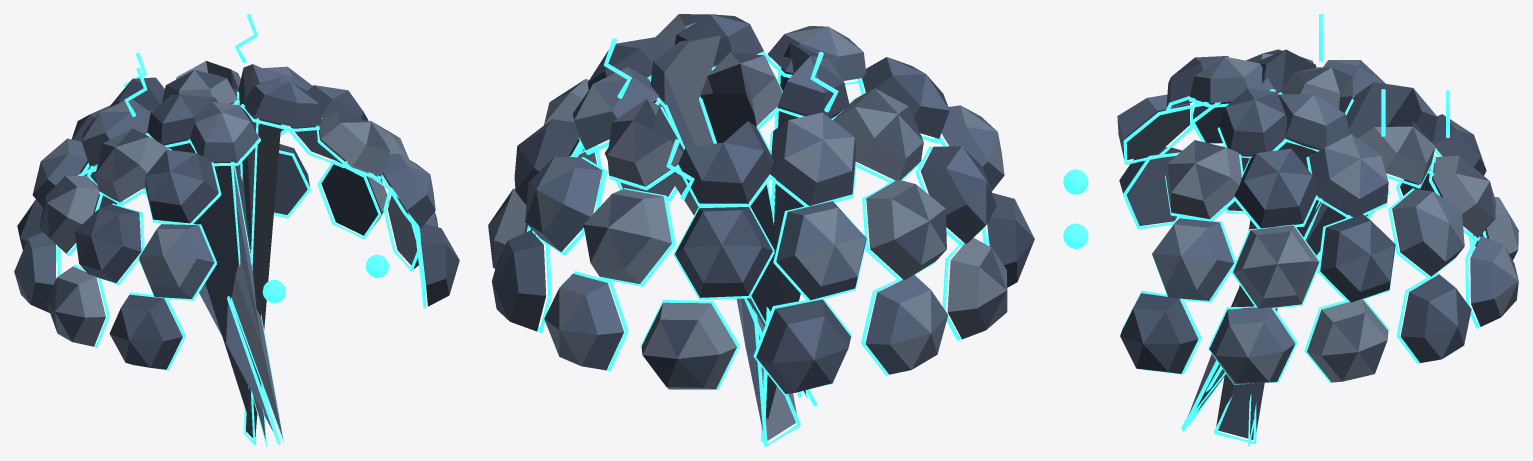
The model's file is stormstone-epic-v2-accessories.fbx.
3 views of the same model, side by side, from view 1: azimuth 30°, elevation 25°; view 2: azimuth 150°, elevation 25°; view 3: azimuth 270°, elevation 25° (orthographic). The views are drawn at different scales.
Parts seen in each view (by area): view 1: stormstone_StonePlates, stormstone_GlowSeams, stormstone_GlowEyes, stormstone_Lightning; view 2: stormstone_StonePlates, stormstone_GlowSeams, stormstone_Lightning; view 3: stormstone_StonePlates, stormstone_GlowSeams, stormstone_GlowEyes, stormstone_Lightning.
Part boxes in pixels (bbox=[...]): stormstone_StonePlates: bbox=[14, 61, 459, 439]; stormstone_GlowSeams: bbox=[56, 91, 426, 446]; stormstone_GlowEyes: bbox=[262, 254, 388, 303]; stormstone_Lightning: bbox=[124, 14, 257, 116]; stormstone_StonePlates: bbox=[488, 14, 1034, 440]; stormstone_GlowSeams: bbox=[526, 51, 989, 446]; stormstone_Lightning: bbox=[603, 38, 838, 199]; stormstone_StonePlates: bbox=[1117, 49, 1518, 439]; stormstone_GlowSeams: bbox=[1122, 89, 1486, 446]; stormstone_GlowEyes: bbox=[1063, 169, 1088, 248]; stormstone_Lightning: bbox=[1319, 14, 1449, 137].
Size of the model in its own units: 1414 by 1282 by 1356.
Materials: 2 (1 with a texture image).
